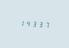four: (24, 19, 29, 27)
one: (18, 18, 23, 27)
seven: (42, 20, 47, 28)
three: (30, 19, 35, 28), (36, 20, 41, 28)
